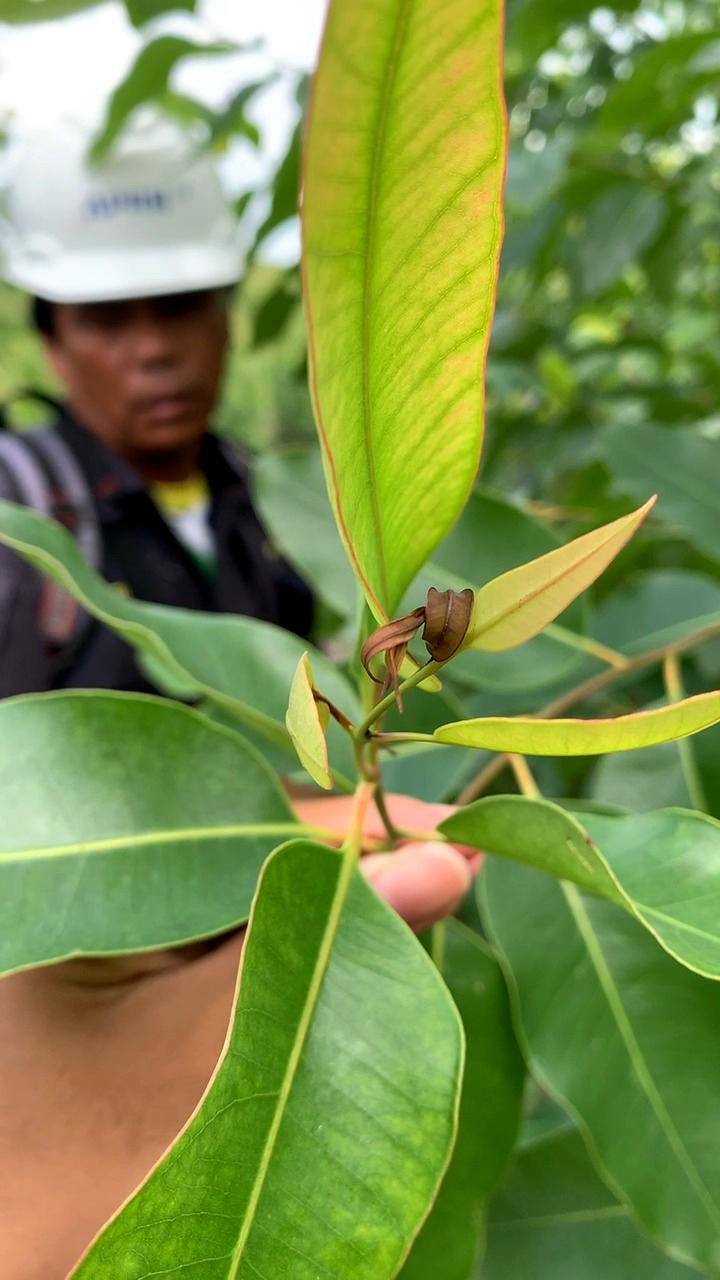Helopeltis-Withered Sprout: (362, 583, 473, 697)
